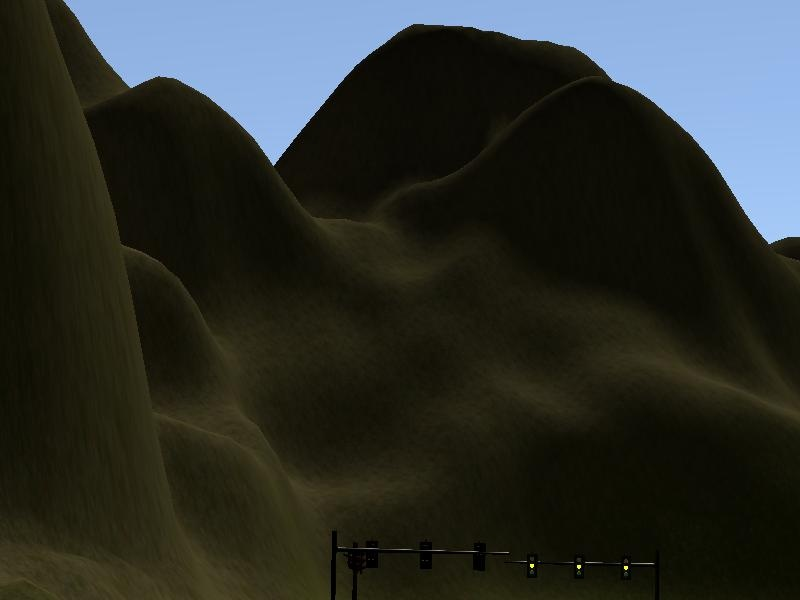YELLOW: (572, 551, 584, 577), (618, 552, 630, 578), (525, 551, 537, 577)
